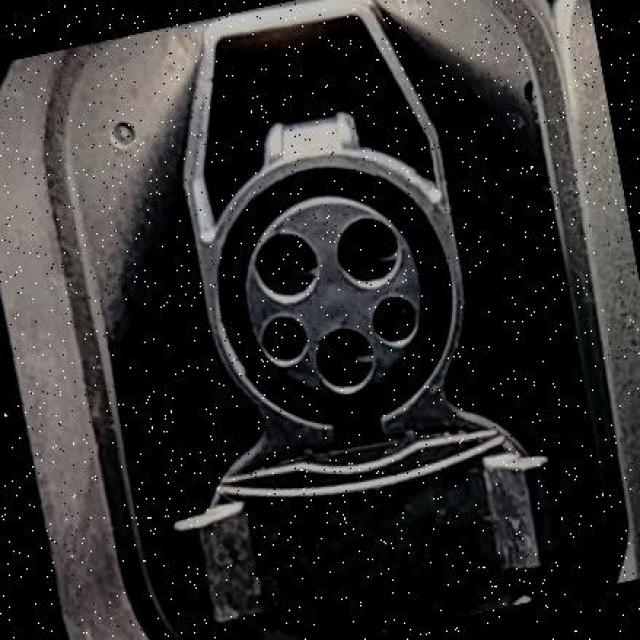Type 1: (223, 180, 454, 414)
